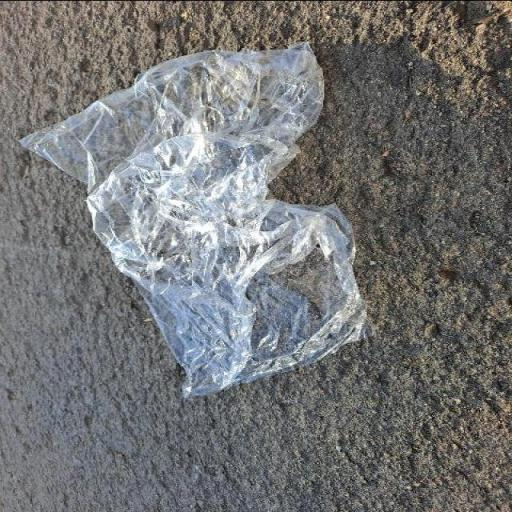plastic-bag: (15, 36, 377, 402)
